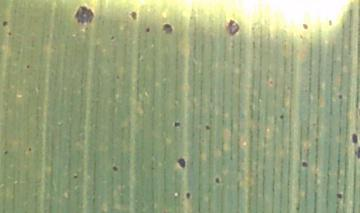tarspot: (74, 6, 95, 25), (227, 19, 239, 37), (161, 23, 173, 34), (128, 9, 138, 21), (177, 158, 187, 169), (301, 22, 309, 31), (352, 134, 358, 145), (111, 164, 119, 172), (214, 176, 221, 185), (278, 112, 285, 121), (175, 119, 181, 129), (2, 20, 10, 27), (302, 160, 309, 168), (356, 146, 360, 160), (109, 34, 116, 41), (204, 124, 211, 131), (337, 93, 344, 100), (328, 18, 333, 27), (7, 30, 13, 37), (25, 63, 31, 70), (27, 145, 33, 152), (72, 174, 79, 180), (145, 26, 151, 33), (336, 193, 343, 199), (186, 191, 191, 199), (3, 149, 9, 155), (115, 74, 121, 80), (139, 57, 145, 63), (269, 79, 274, 85), (296, 206, 301, 210)
